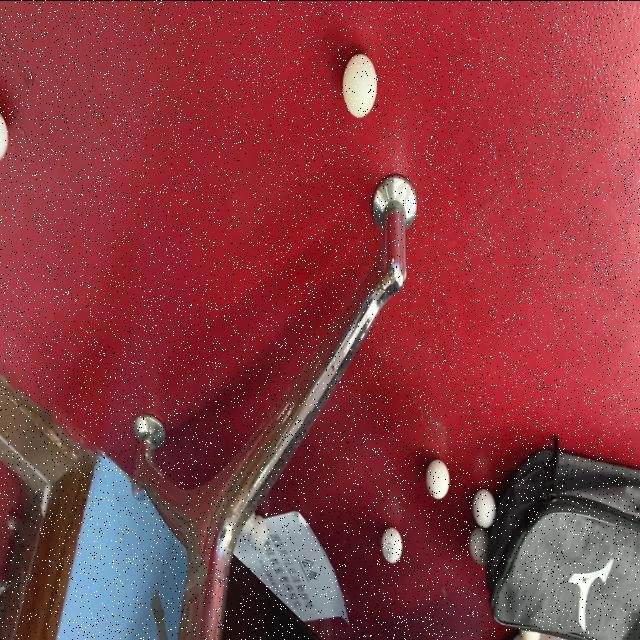ping-pong-ball: (338, 48, 380, 123), (422, 453, 452, 503), (470, 481, 497, 534), (380, 520, 404, 568), (246, 510, 270, 554)
